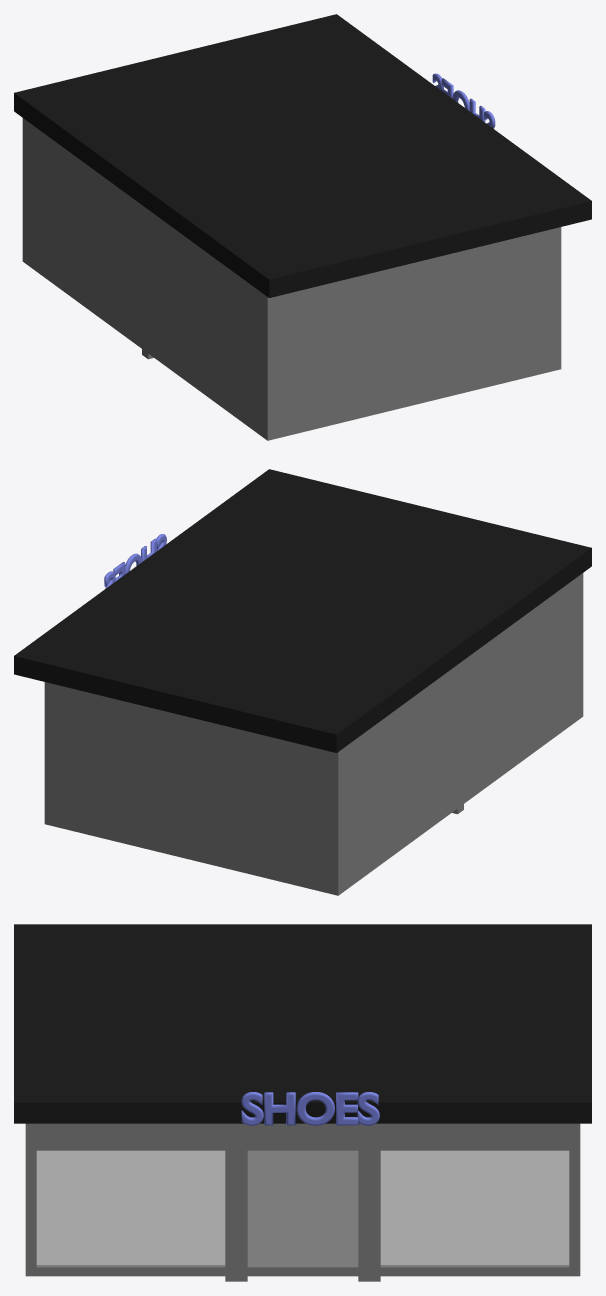
The model's file is Store.gltf.
The picture shows the model from 3 angles, top to bottom: view 1: azimuth 30°, elevation 25°; view 2: azimuth 150°, elevation 25°; view 3: azimuth 270°, elevation 25°; orthographic projection. The views are drawn at different scales.
Parts seen in each view (by area): view 1: Roof, Structure, Sign; view 2: Roof, Structure, Sign; view 3: Roof, Structure, LeftWIndow, RightWIndow, Sign.
Part boxes in pixels (x1,y1,x2,y2): Roof: [14, 14, 591, 297]; Structure: [22, 118, 561, 440]; Sign: [432, 73, 495, 128]; Roof: [14, 469, 591, 752]; Structure: [44, 573, 583, 895]; Sign: [104, 534, 166, 588]; Roof: [14, 924, 591, 1123]; Structure: [25, 1123, 580, 1281]; LeftWIndow: [36, 1150, 225, 1264]; RightWIndow: [380, 1150, 569, 1264]; Sign: [241, 1092, 379, 1125].
Size of what is drawn, in the model's own units: 9.26 by 4.93 by 12.5.
